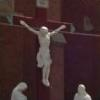Statue: (25, 13, 73, 90)
